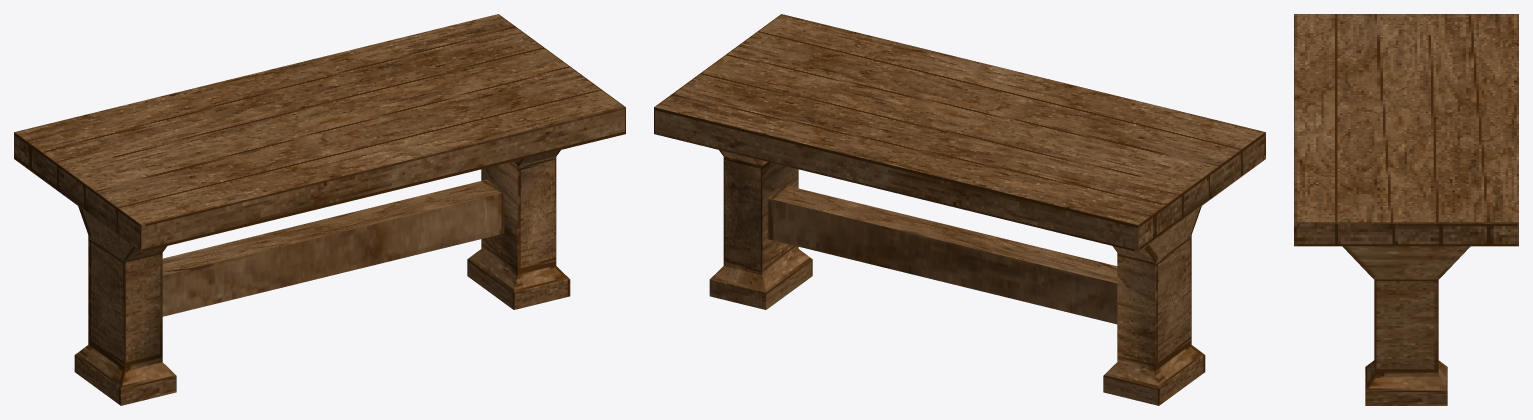
File: table-02b_model.glb
3 views of the same model, side by side, from view 1: azimuth 30°, elevation 25°; view 2: azimuth 150°, elevation 25°; view 3: azimuth 270°, elevation 25° (orthographic). The views are drawn at different scales.
Visible parts, largest first — view 1: table_top, table_legs, table_detail; view 2: table_top, table_legs, table_detail; view 3: table_top, table_legs.
Part boxes in pixels (left/top/right/bottom): table_top: left=14, top=14, right=625, bottom=252; table_legs: left=74, top=150, right=570, bottom=405; table_detail: left=162, top=179, right=504, bottom=316; table_top: left=654, top=14, right=1265, bottom=252; table_legs: left=709, top=150, right=1205, bottom=405; table_detail: left=767, top=185, right=1117, bottom=324; table_top: left=1294, top=14, right=1518, bottom=246; table_legs: left=1342, top=246, right=1470, bottom=405.
Bounding box in the file's own units: 22.01 × 9.34 × 10.03.
Materials: 3 (3 with a texture image).
